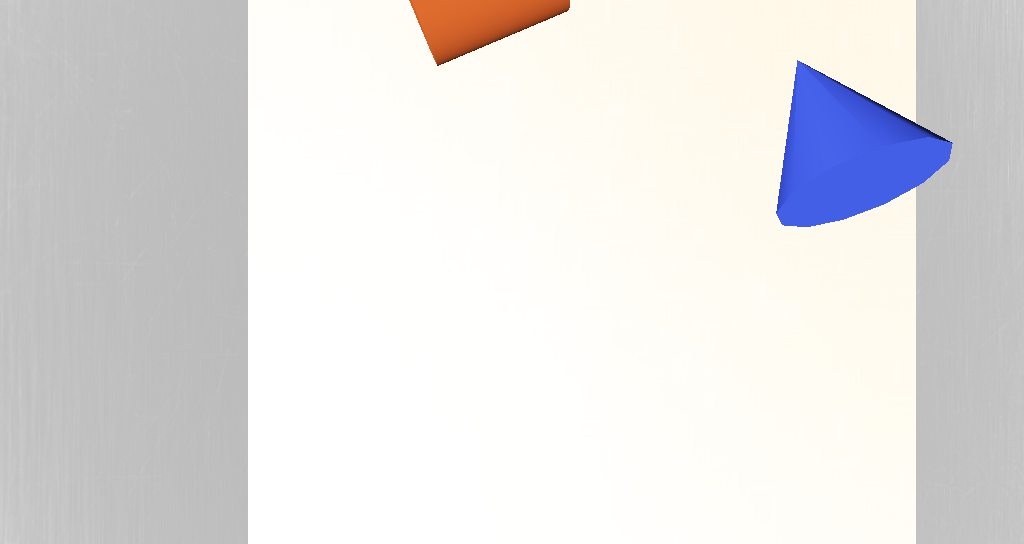cone: (418, 155, 499, 208)
cylinder: (556, 188, 657, 260)
sphere: (377, 84, 458, 146)
